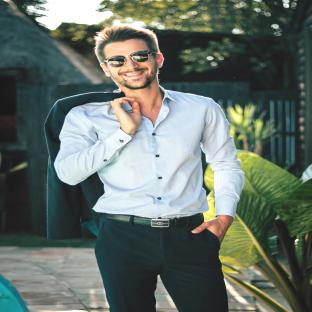Human: (54, 25, 244, 312)
